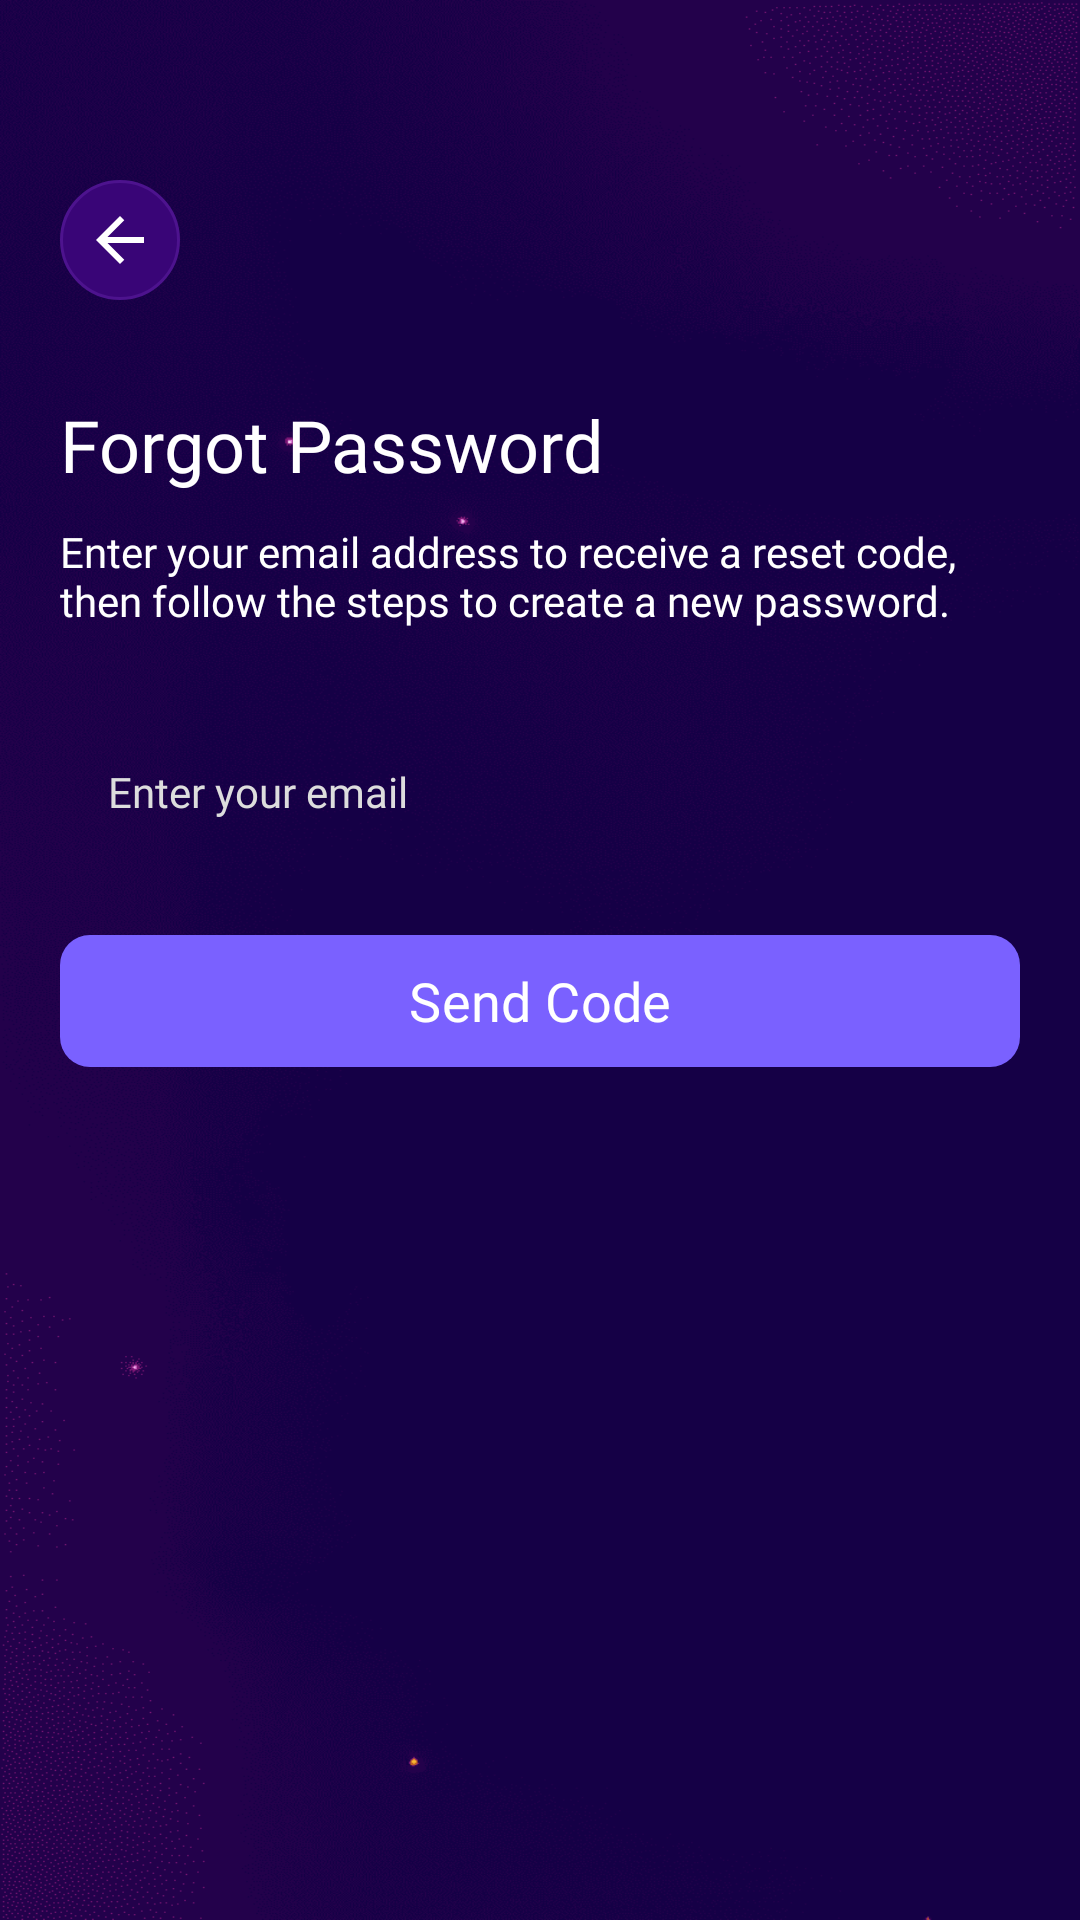

Point at icon controls on the screen. Image size 1080 x 1920, points as point (x, y).
back: point (120, 240)
